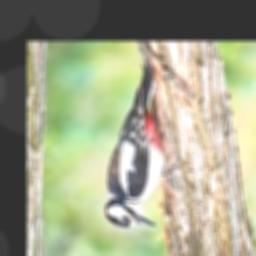Woodpecker: (104, 62, 165, 226)
